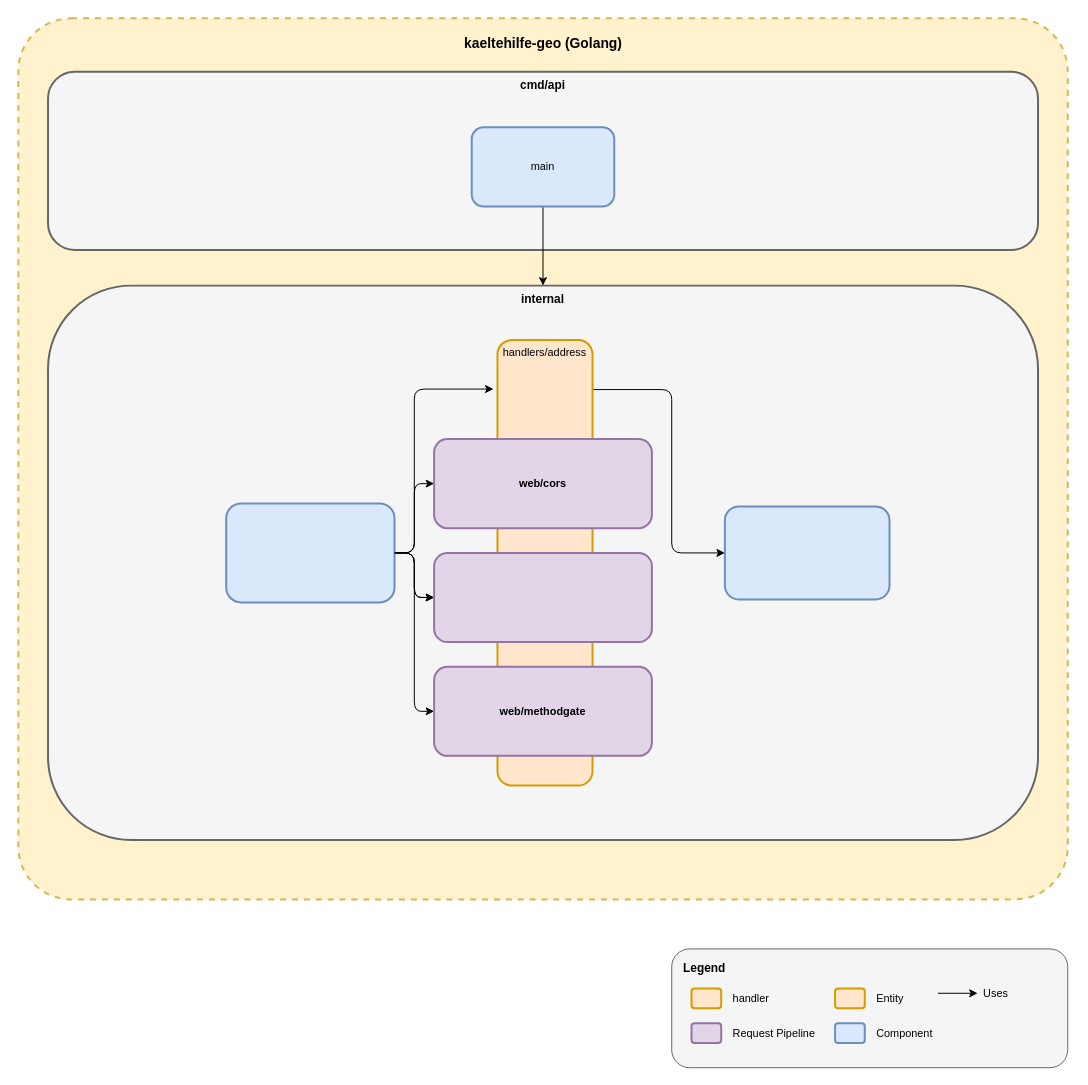
This 1088x1085 diagram has some shape labels left out. Here are the shapes that lost their labels. From the top down, the centre of each, then its label:
(x=310, y=552): web/server net/http ServeMux Middleware chain Route registration
(x=806, y=552): db/Database
(x=542, y=597): web/auth go-oidc/v3 JWT Bearer verification Keycloak JWKS discovery
